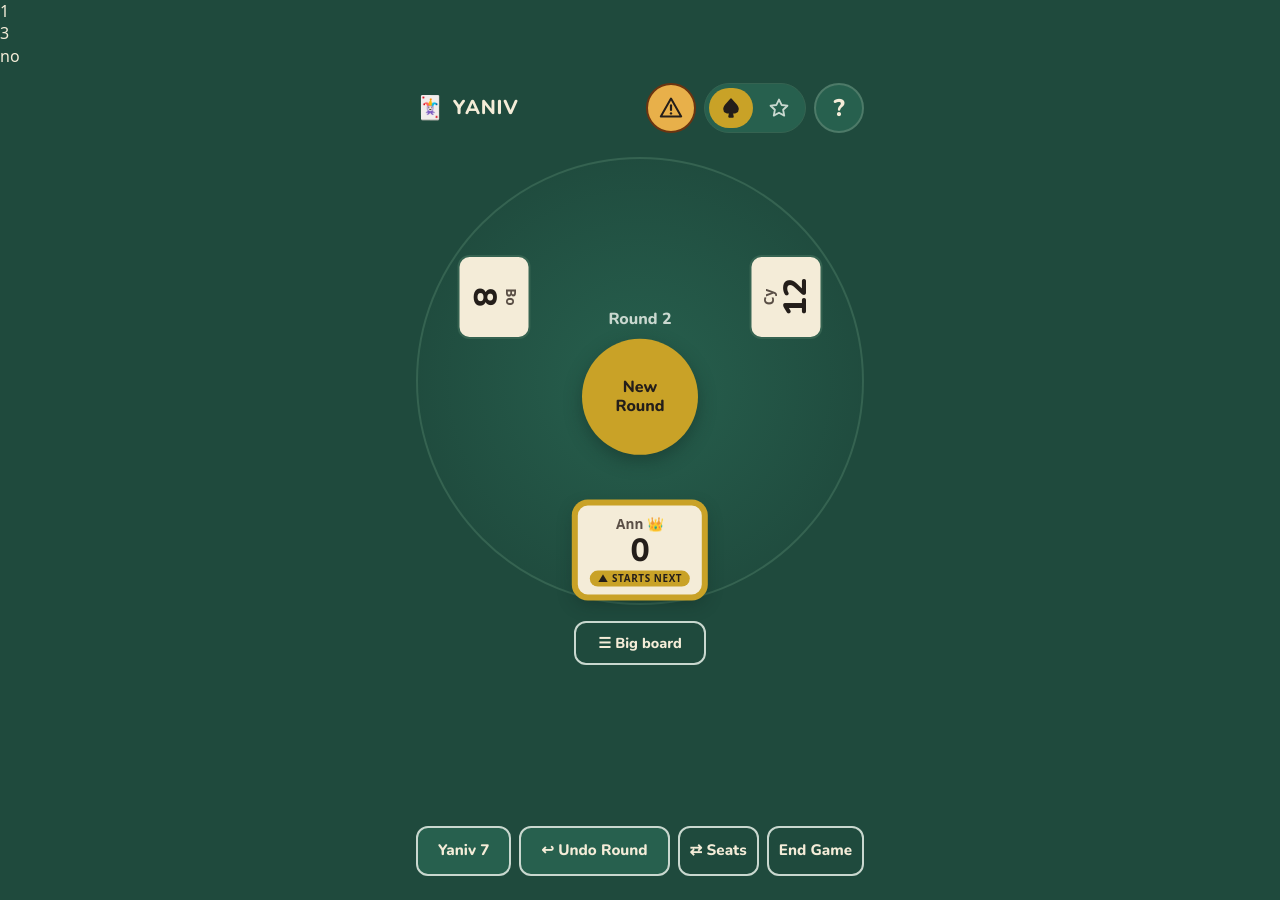
Scenario: PlayScreen — undo and standings › cancelling the undo confirmation leaves the round in place
Click the button "↩ Undo Round" at (594, 851), box [519,826,670,876]
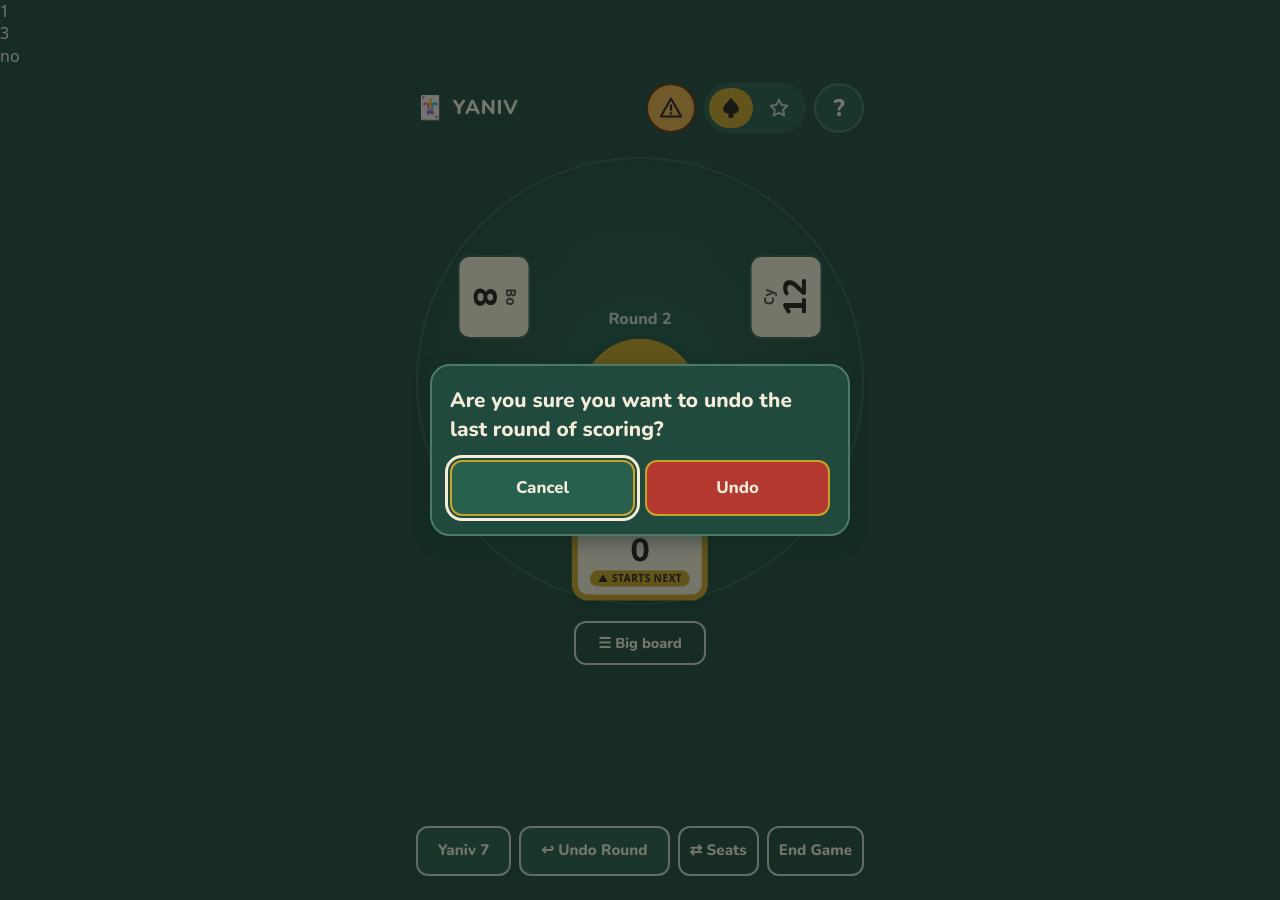
Check: the dialog with test id "confirm-undo-round" shows "Are you sure you want to undo the last round of scoring?", box [450,386,792,443]
Click the button with test id "confirm-undo-round-cancel" at (542, 488), box [450,460,635,516]
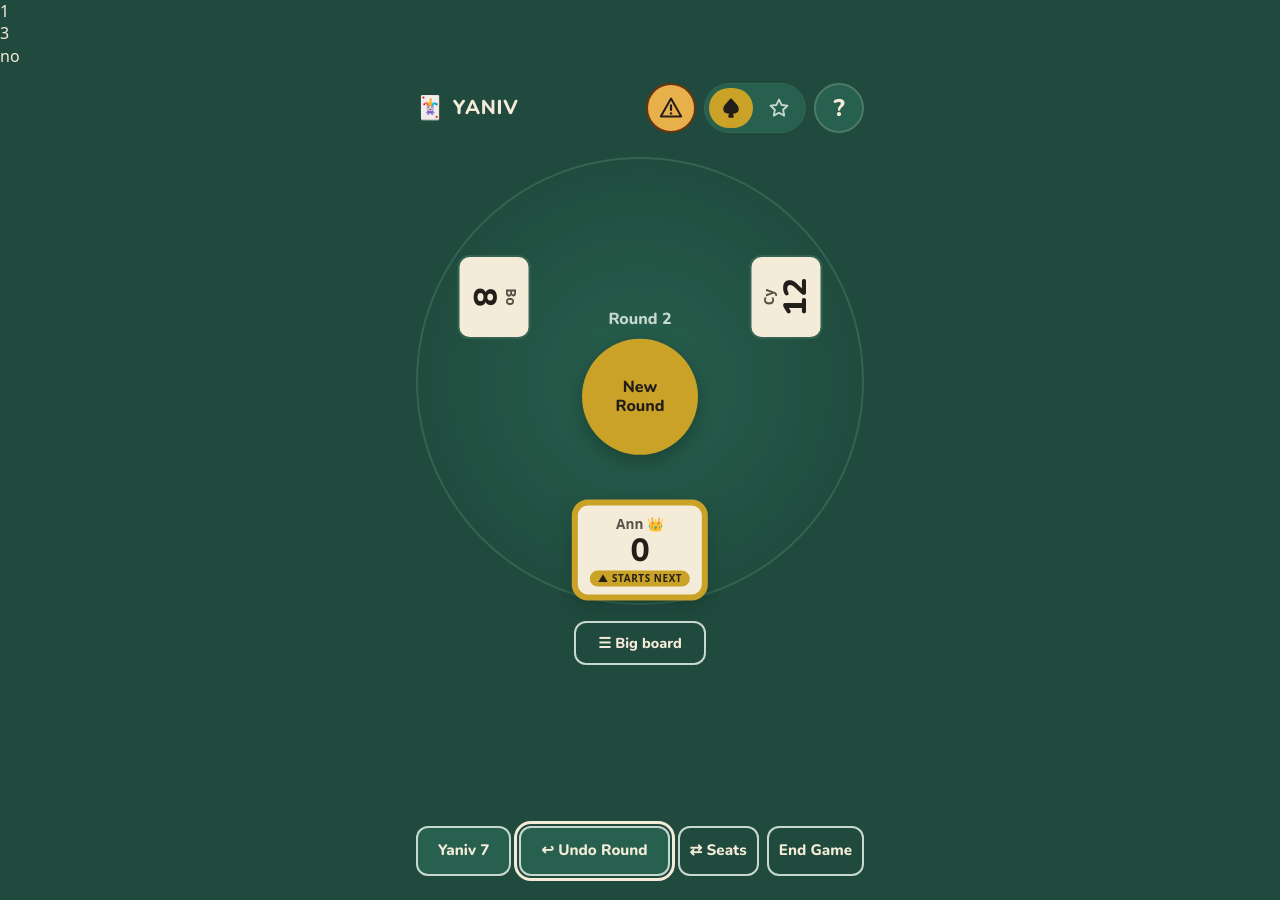
Check: the text with test id "history-len" reads "1", box [0,0,9,22]
Check: the dialog with test id "confirm-undo-round" is gone
